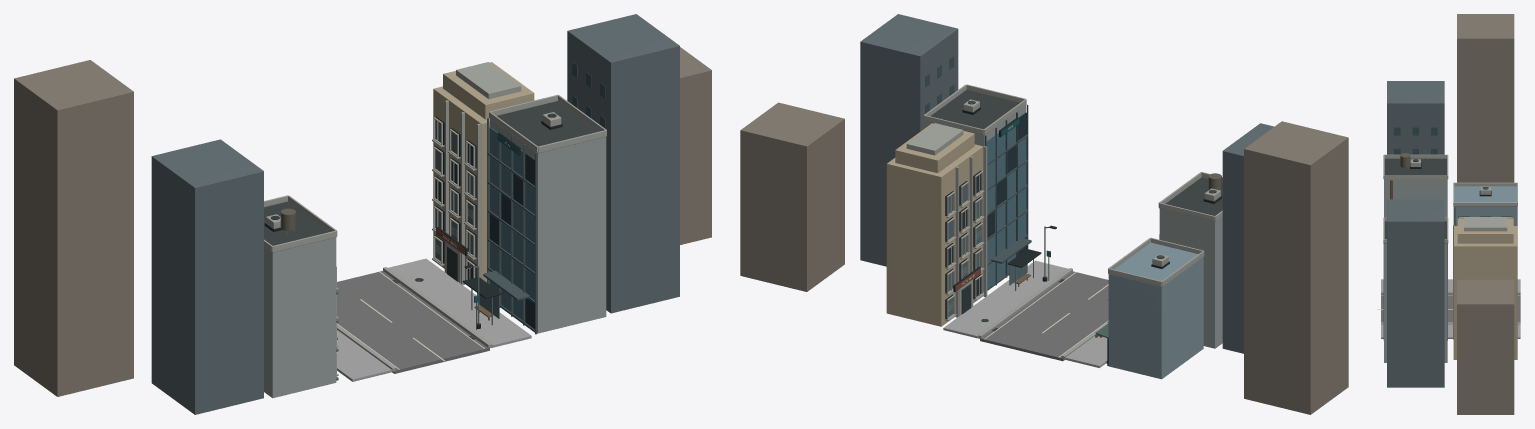
Rendered from city_hd_10.glb.
3 renders of one model, left to right at view 1: azimuth 30°, elevation 25°; view 2: azimuth 150°, elevation 25°; view 3: azimuth 270°, elevation 25°, orthographic. The views are drawn at different scales.
Parts seen in each view (by area): view 1: CITY_distant_2, CITY_distant_3, CITY_wall_gray, CITY_PBR_asphalt, CITY_trim, CITY_PBR_pavement, CITY_lamp, CITY_office_glass, CITY_roof, CITY_office_frame, CITY_frame, CITY_glass_dark (+4 smaller); view 2: CITY_distant_3, CITY_distant_2, CITY_lamp, Mixed use shop volume, CITY_trim, CITY_PBR_asphalt, CITY_wall_gray, CITY_PBR_pavement, CITY_office_glass, CITY_roof, CITY_office_frame, CITY_frame (+5 smaller); view 3: CITY_distant_3, CITY_distant_2, CITY_lamp, CITY_trim, CITY_wall_gray, Mixed use shop volume, CITY_roof, CITY_PBR_asphalt, CITY_PBR_pavement, CITY_distant_window, CITY_office_frame, CITY_storefront (+2 smaller).
Part boxes in pixels (x1,y1,x2,y2): CITY_distant_2: (151, 14, 679, 414); CITY_distant_3: (14, 47, 711, 396); CITY_wall_gray: (264, 118, 606, 398); CITY_PBR_asphalt: (336, 271, 489, 373); CITY_trim: (264, 62, 606, 376); CITY_PBR_pavement: (336, 258, 531, 381); CITY_lamp: (433, 62, 534, 283); CITY_office_glass: (489, 127, 534, 320); CITY_roof: (264, 101, 601, 252); CITY_office_frame: (483, 118, 537, 334); CITY_frame: (336, 117, 475, 374); CITY_glass_dark: (435, 143, 534, 329); CITY_distant_3: (740, 102, 1348, 414); CITY_distant_2: (860, 14, 1273, 353); CITY_lamp: (886, 123, 983, 326); Mixed use shop volume: (1108, 242, 1203, 379); CITY_trim: (906, 84, 1222, 322); CITY_PBR_asphalt: (980, 271, 1108, 361); CITY_wall_gray: (924, 105, 1222, 348); CITY_PBR_pavement: (943, 260, 1107, 367); CITY_office_glass: (986, 126, 1026, 287); CITY_roof: (930, 89, 1222, 221); CITY_office_frame: (984, 104, 1031, 290); CITY_frame: (946, 171, 1159, 319); CITY_distant_3: (1457, 14, 1514, 414); CITY_distant_2: (1387, 81, 1444, 387); CITY_lamp: (1453, 218, 1517, 359); CITY_trim: (1383, 154, 1517, 339); CITY_wall_gray: (1384, 179, 1447, 362); Mixed use shop volume: (1453, 186, 1517, 225); CITY_roof: (1384, 158, 1516, 243); CITY_PBR_asphalt: (1381, 294, 1520, 322); CITY_PBR_pavement: (1381, 279, 1520, 338); CITY_distant_window: (1394, 127, 1437, 154); CITY_office_frame: (1383, 244, 1447, 340); CITY_storefront: (1410, 159, 1490, 194).
Bounding box in the file's own units: 57.3 × 24.26 × 16.4.
